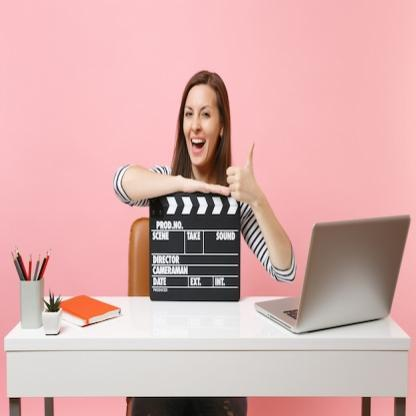thumb_up: (224, 137, 260, 212)
